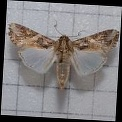Spodoptera litura: (8, 19, 119, 90)
